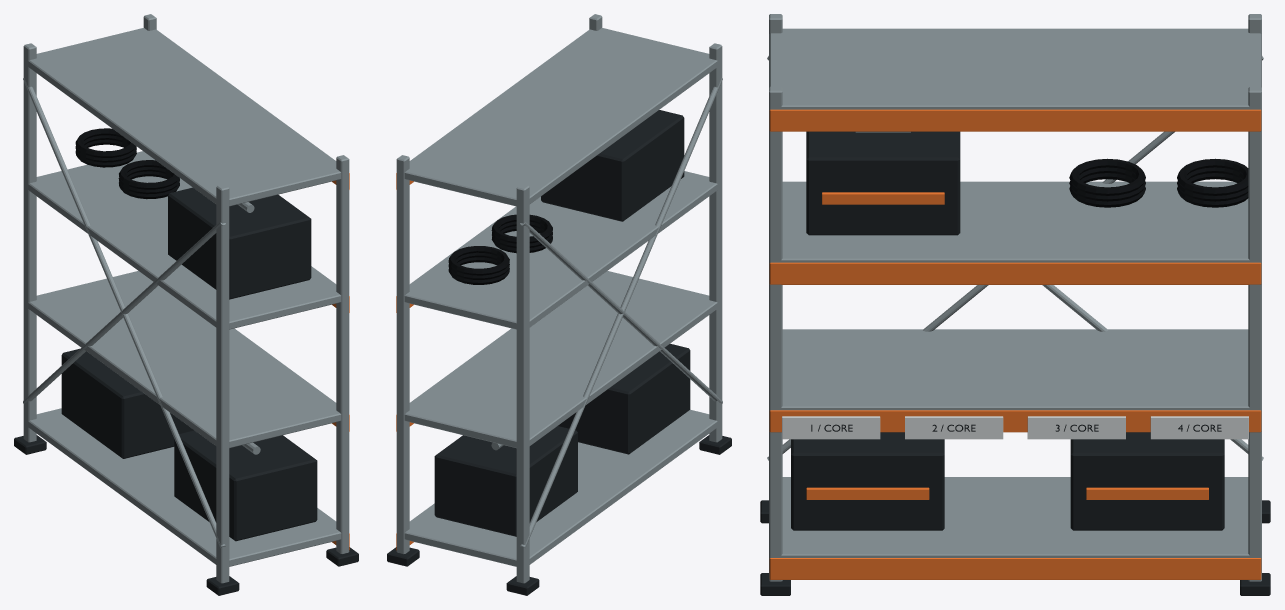
The model's file is SM_MP_Power_SupplyRack.fbx.
3 renders of one model, left to right at view 1: azimuth 30°, elevation 25°; view 2: azimuth 150°, elevation 25°; view 3: azimuth 270°, elevation 25°, orthographic. The views are drawn at different scales.
Parts seen in each view (by area): view 1: SM_MP_Power_SupplyRack; view 2: SM_MP_Power_SupplyRack; view 3: SM_MP_Power_SupplyRack.
Part boxes in pixels (x1,y1,x2,y2): SM_MP_Power_SupplyRack: (14, 14, 358, 595); SM_MP_Power_SupplyRack: (387, 14, 731, 595); SM_MP_Power_SupplyRack: (760, 14, 1270, 595).
Size of the model in its own units: 66 by 166 by 180.
